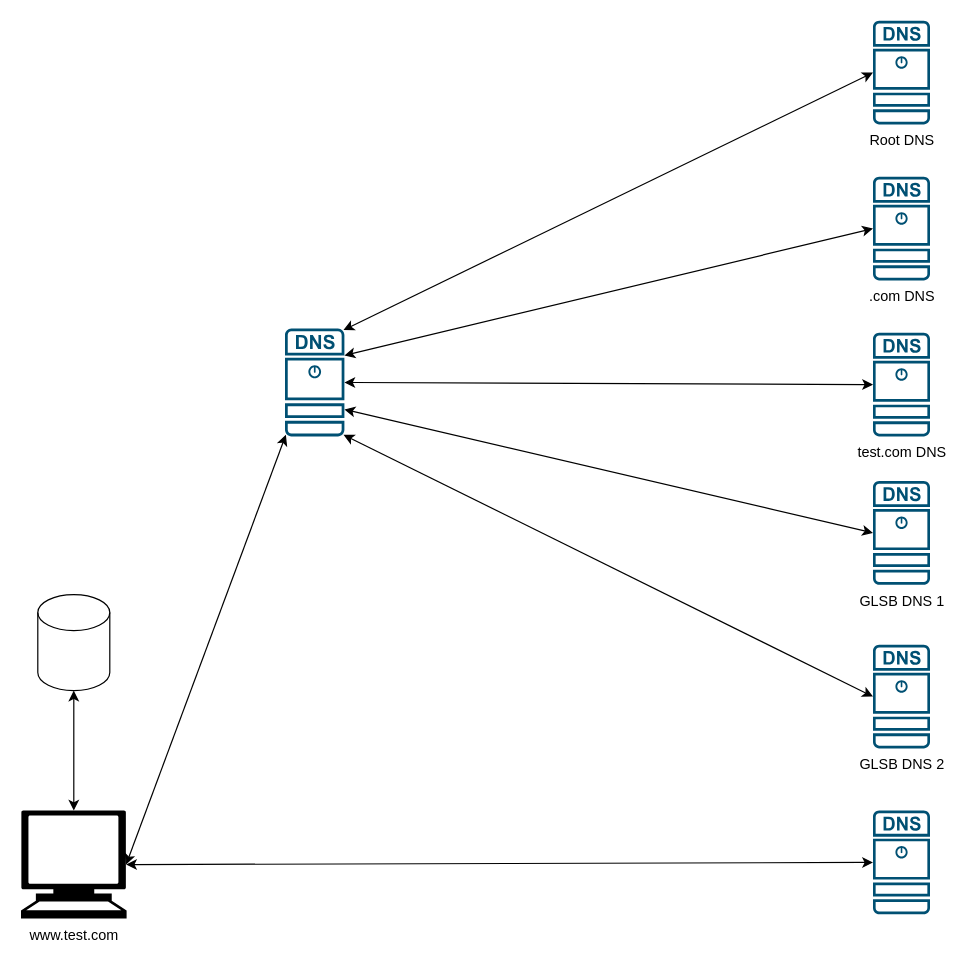
The diagram is 966 pixels wide and 965 high, and some of its shapes have lost their labels. The shapes that lost their labels are listed below. From the top down, each one's centre as x and y in pixels, then its label:
At (x=314, y=382): "Local DNS".
At (x=73, y=642): "本地缓存".
At (x=900, y=862): "权威 DNS".
